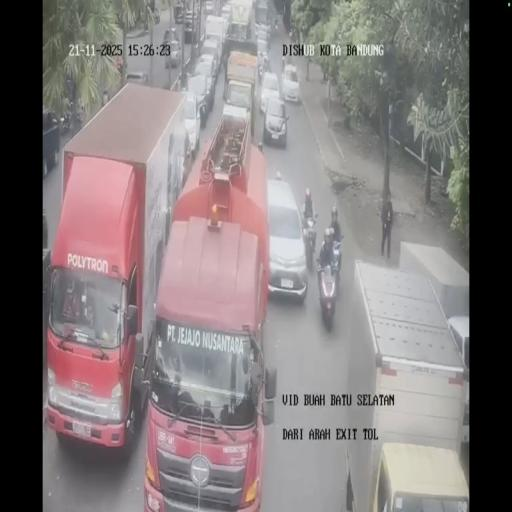car: (266, 176, 308, 303), (184, 70, 210, 130), (259, 71, 281, 115), (199, 40, 220, 82), (281, 64, 300, 102), (254, 22, 271, 52), (220, 4, 232, 32)
motorcycle: (317, 263, 337, 331), (330, 238, 343, 278)
truck: (44, 84, 190, 454), (183, 2, 201, 42), (254, 0, 270, 26), (173, 2, 184, 24)
